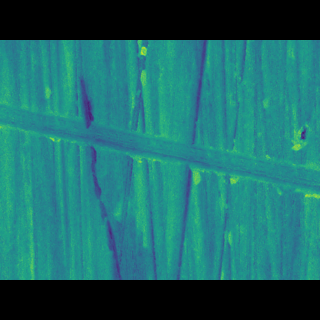Loch: (0, 116, 320, 193), (46, 70, 84, 249), (286, 128, 319, 155)
